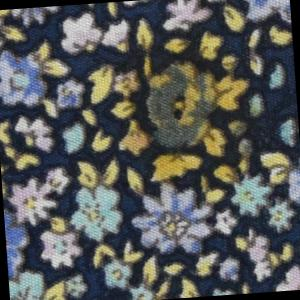Stain: (104, 24, 263, 216)
